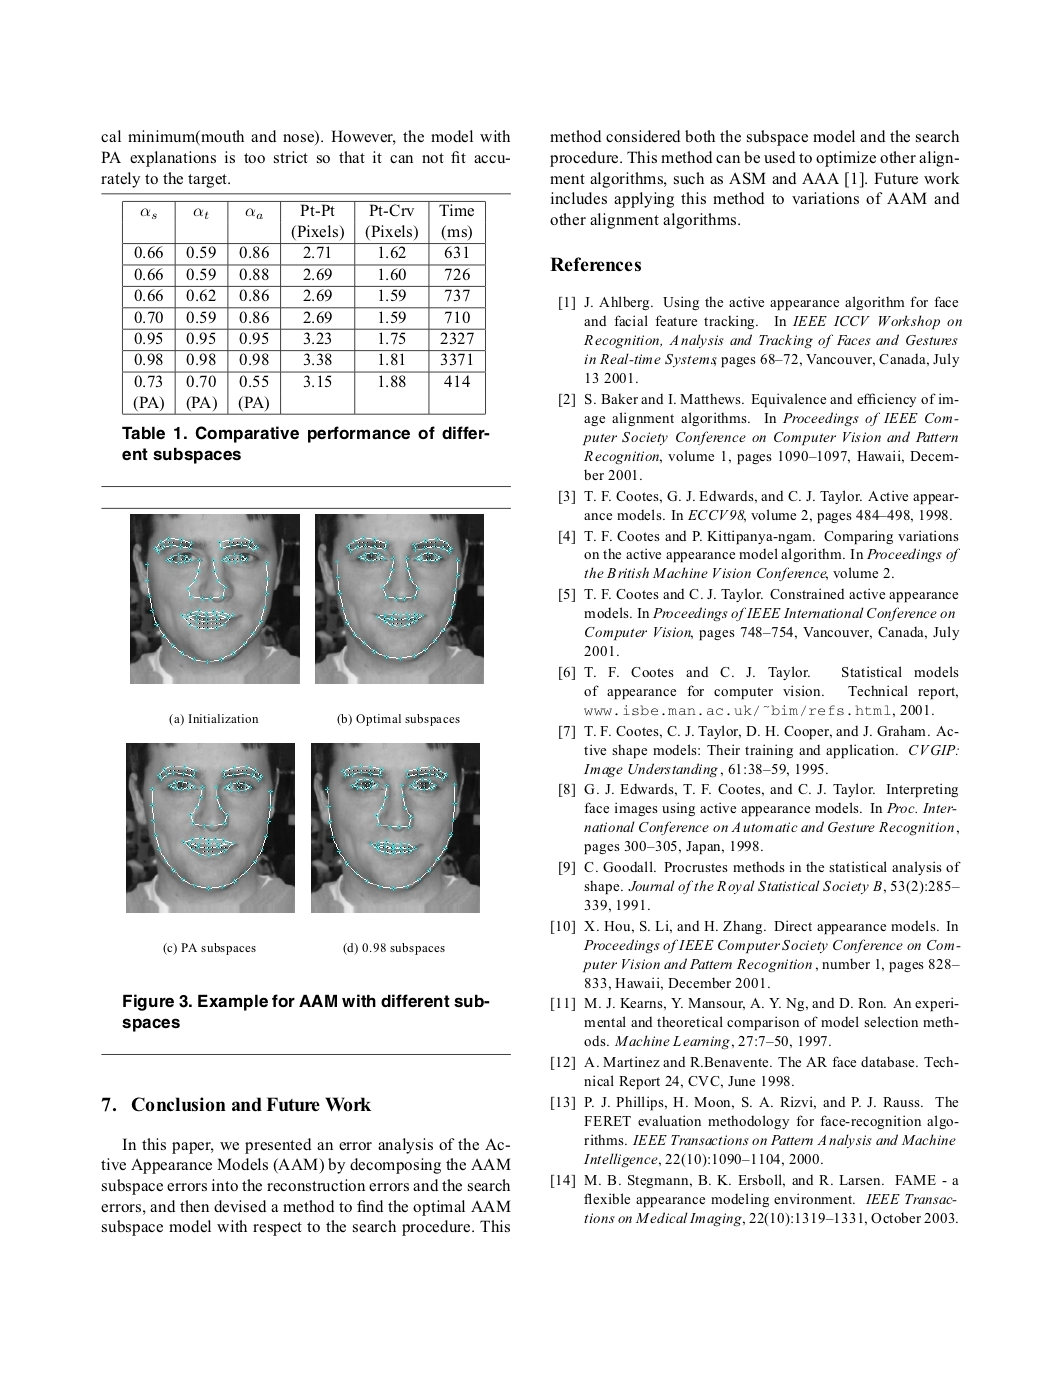Table: (121, 199, 485, 415)
figure: (130, 514, 299, 683), (126, 743, 294, 912), (311, 743, 479, 912), (315, 514, 483, 683), (101, 506, 510, 509)
